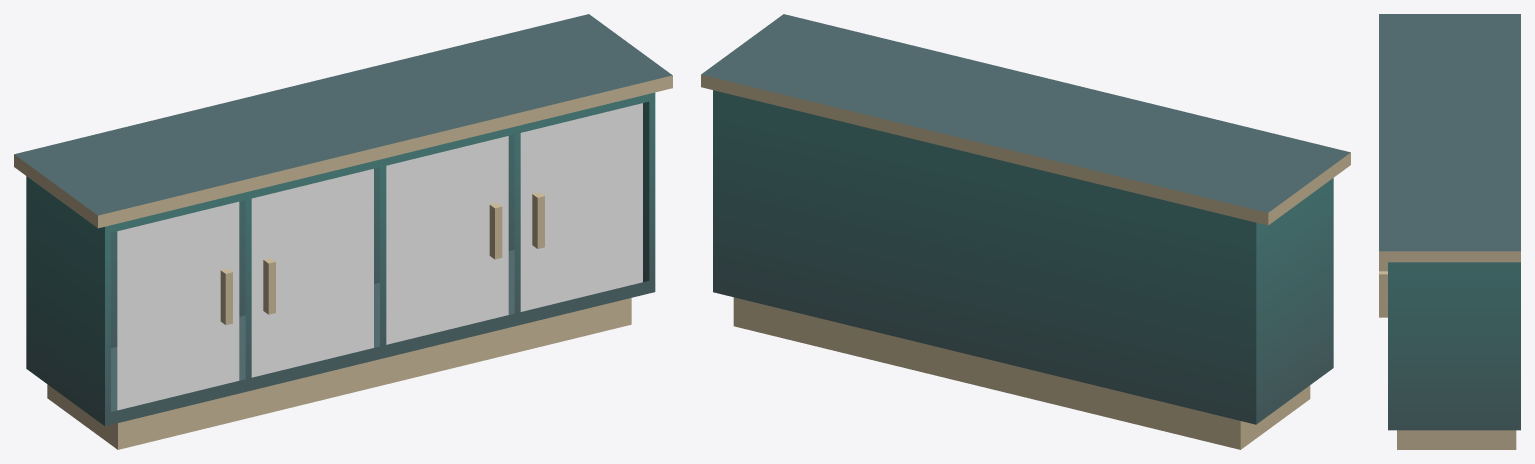
The model's file is KC32__AD_Int_Sideboard.glb.
3 views of the same model, side by side, from view 1: azimuth 30°, elevation 25°; view 2: azimuth 150°, elevation 25°; view 3: azimuth 270°, elevation 25° (orthographic). The views are drawn at different scales.
Visible parts, largest first — view 1: KC32_CORPS__AD_Int_Sideboard, KC32_ACCENT__AD_Int_Sideboard, KC32_BRONZE__AD_Int_Sideboard; view 2: KC32_CORPS__AD_Int_Sideboard, KC32_BRONZE__AD_Int_Sideboard; view 3: KC32_CORPS__AD_Int_Sideboard, KC32_BRONZE__AD_Int_Sideboard.
Part boxes in pixels (x1,y1,x2,y2): KC32_CORPS__AD_Int_Sideboard: (14,14,672,426); KC32_ACCENT__AD_Int_Sideboard: (117,103,642,410); KC32_BRONZE__AD_Int_Sideboard: (14,75,672,449); KC32_CORPS__AD_Int_Sideboard: (701,14,1350,424); KC32_BRONZE__AD_Int_Sideboard: (701,74,1350,449); KC32_CORPS__AD_Int_Sideboard: (1379,14,1520,430); KC32_BRONZE__AD_Int_Sideboard: (1379,251,1520,449).
Bounding box in the file's own units: 1.88 × 0.78 × 0.475.
